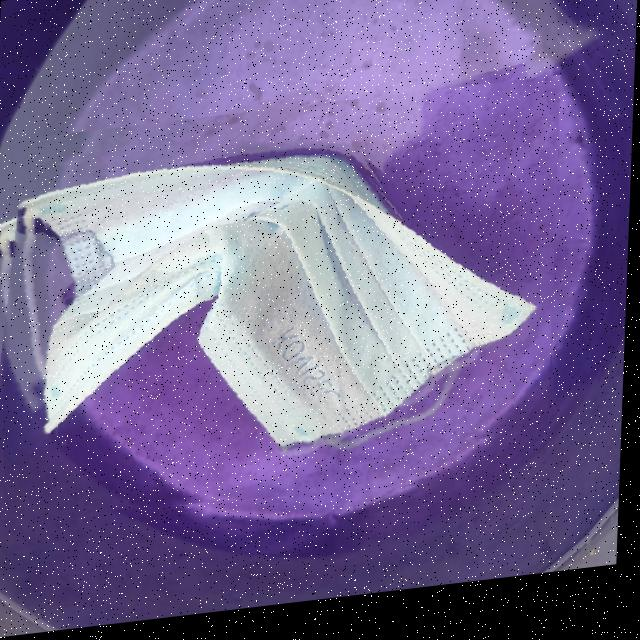litter: (0, 88, 561, 541)
